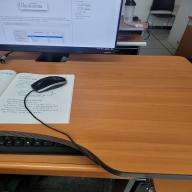mouse: (32, 76, 66, 92)
